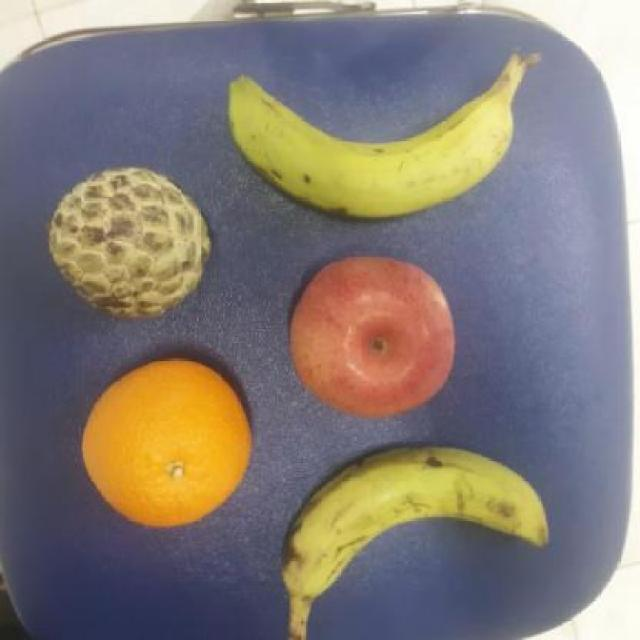apple: (286, 250, 460, 418)
banana: (228, 68, 520, 224), (279, 440, 552, 603)
oren: (78, 358, 259, 527)
sugar apple: (40, 162, 218, 324)
